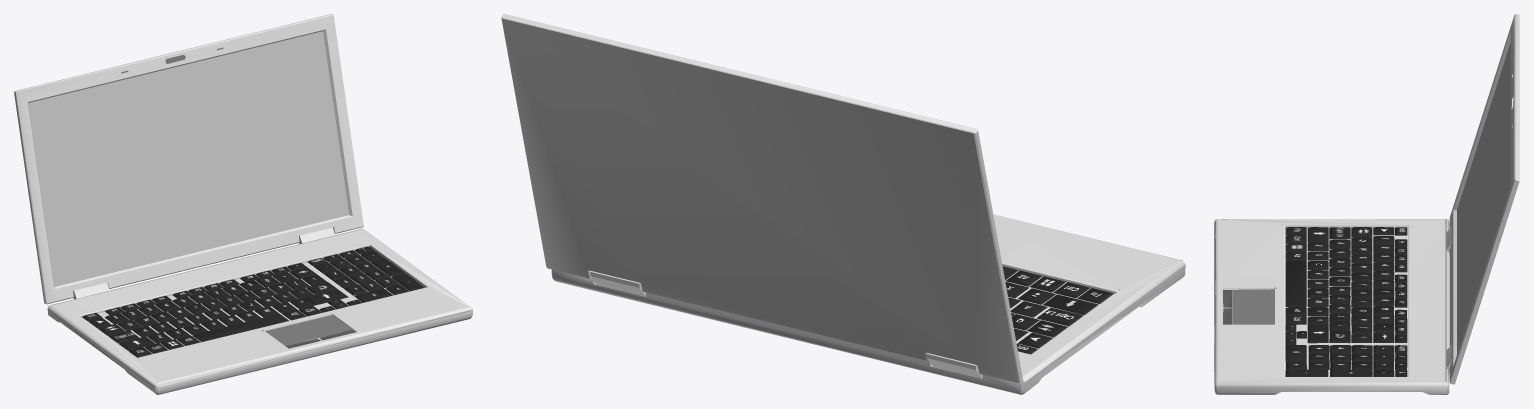
Rendered from Laptop.FBX.
3 renders of one model, left to right at view 1: azimuth 30°, elevation 25°; view 2: azimuth 150°, elevation 25°; view 3: azimuth 270°, elevation 25°, orthographic. The views are drawn at different scales.
Visible parts, largest first — view 1: Laptop; view 2: Laptop; view 3: Laptop.
Part boxes in pixels (left/top/right/bottom): Laptop: left=14, top=14, right=472, bottom=394; Laptop: left=501, top=14, right=1185, bottom=394; Laptop: left=1214, top=14, right=1519, bottom=394.
Bounding box in the file's own units: 46.54 × 28.26 × 36.11.
